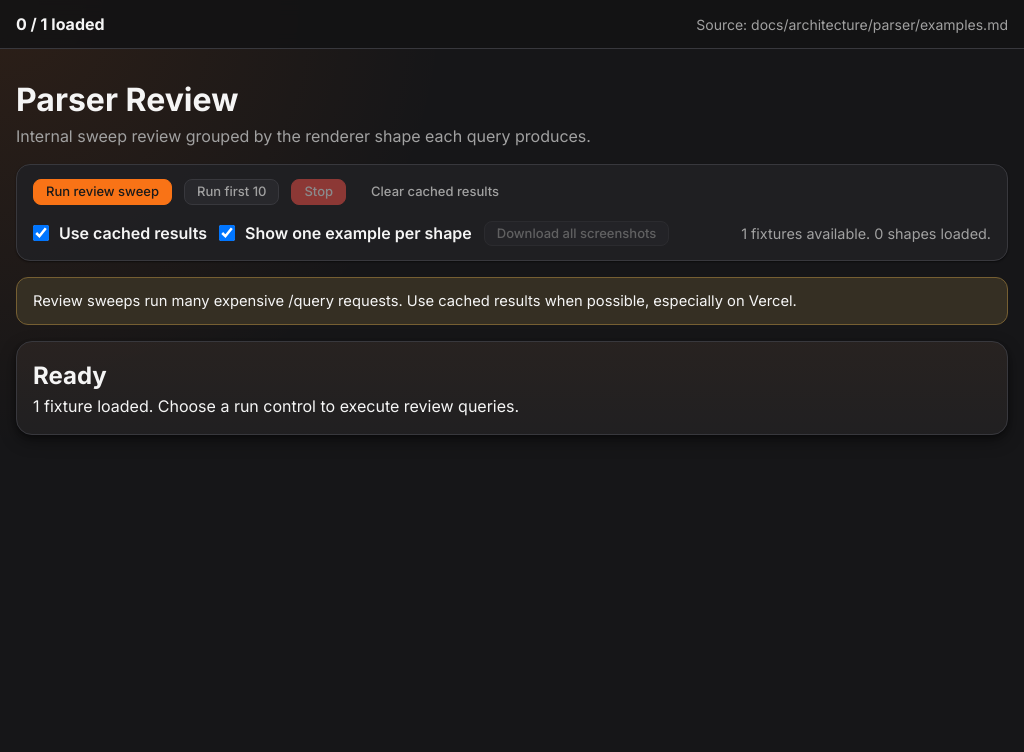
Test: ReviewPage › clears cached results and visible review results
Expected: the text "0 / 1 loaded" is shown, [16,12,105,36]
Click the button "Run review sweep". click: (102,192)
box: [33,179,172,205]
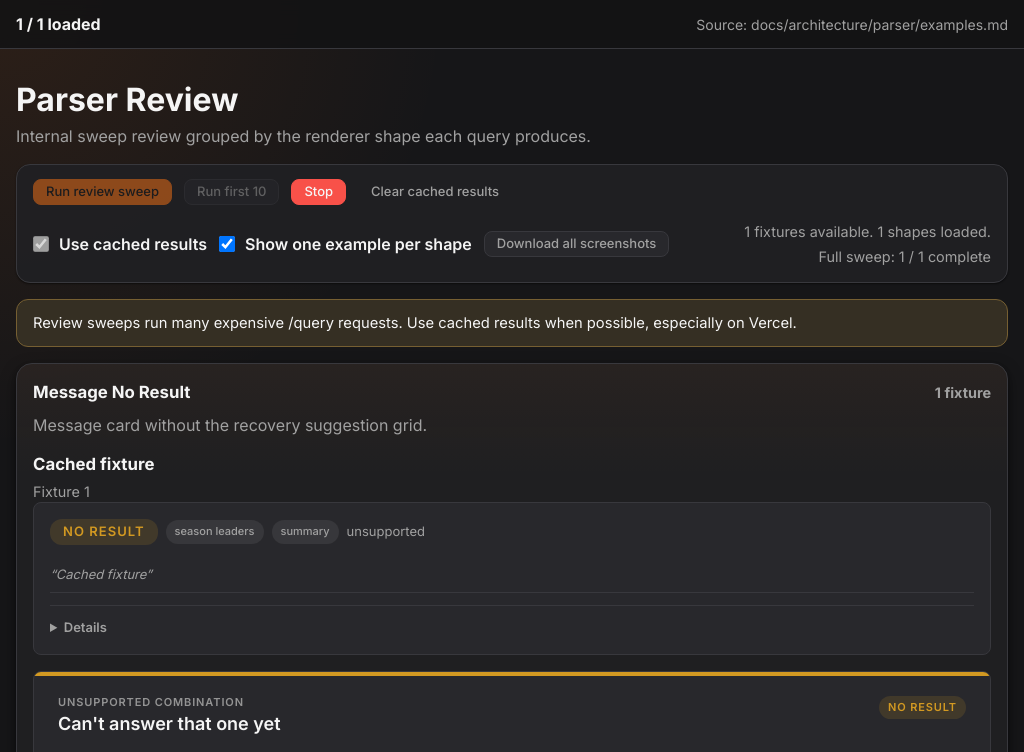
Now the text "1 / 1 loaded" is shown, box [16,12,101,36]
Click the button "Clear cached results". click: (435,192)
box: [358,179,512,205]
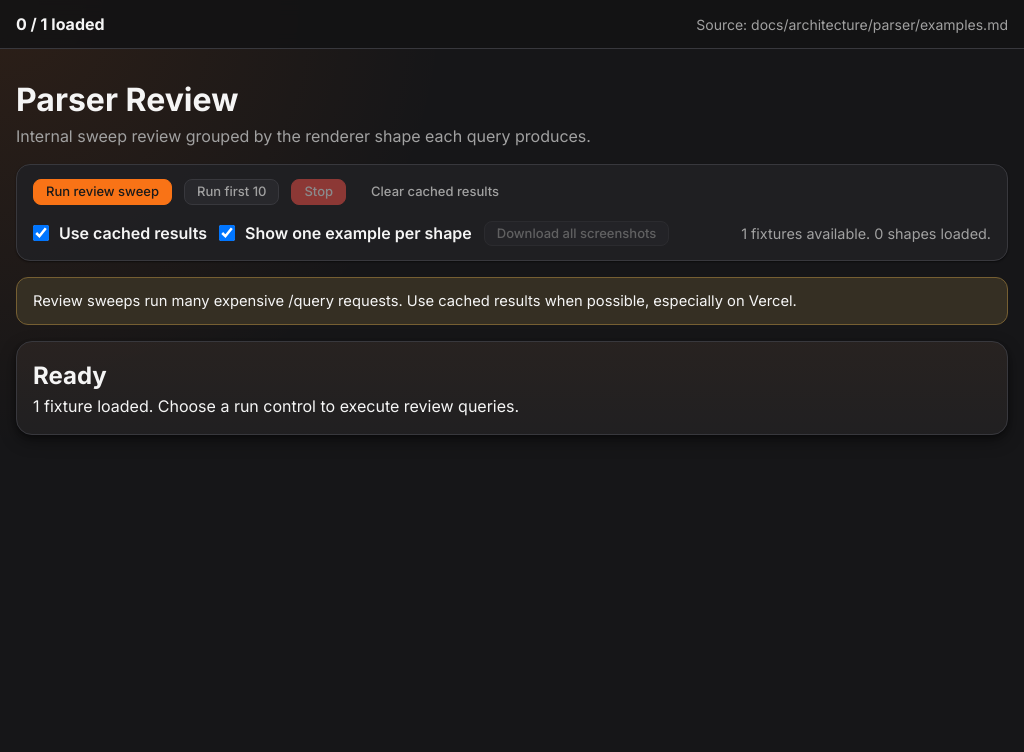
Now the text "0 / 1 loaded" is shown, box [16,12,105,36]
Now the heading "Cached fixture" is gone
